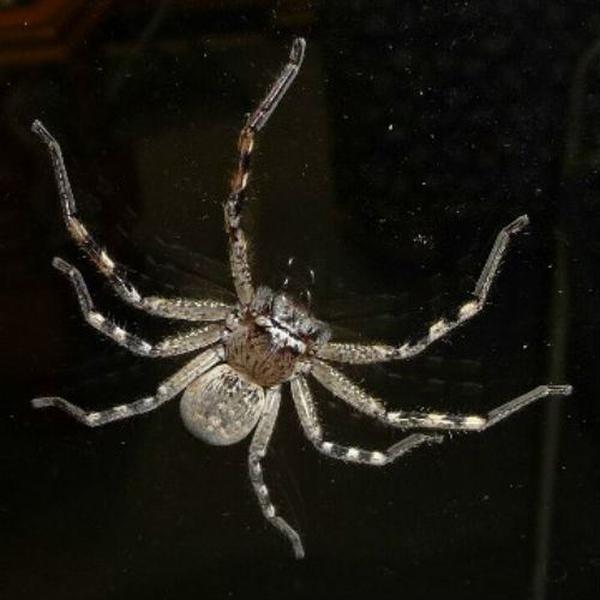Huntsman Spider: (38, 45, 564, 547)
